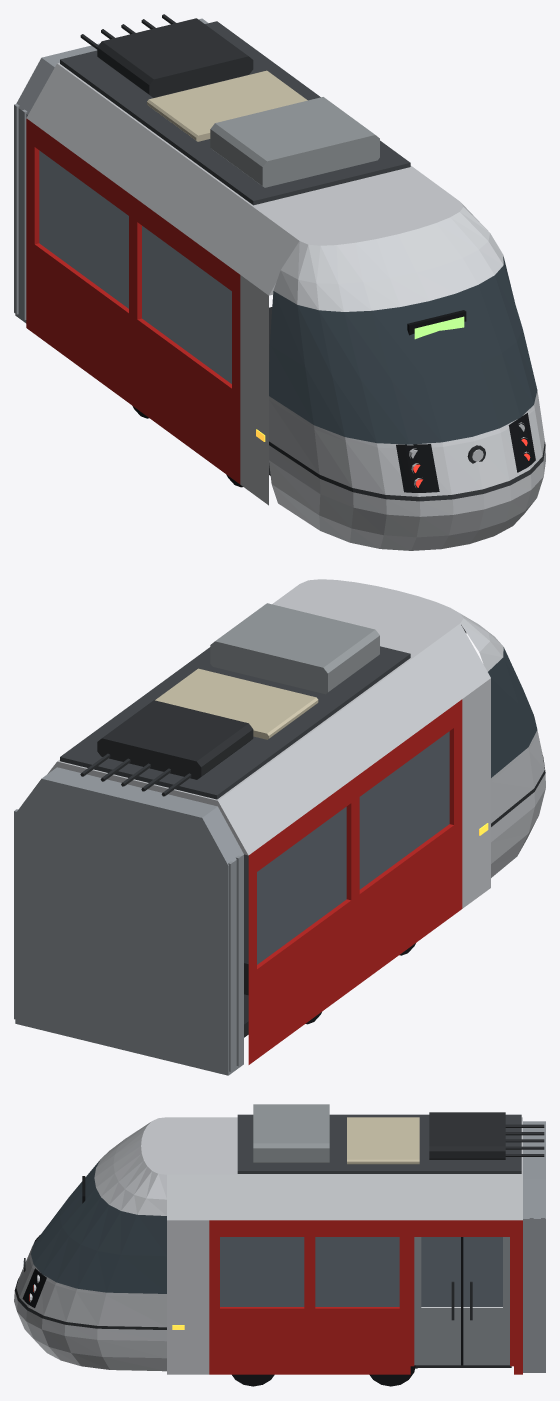
3 renders of one model, top to bottom at view 1: azimuth 30°, elevation 25°; view 2: azimuth 150°, elevation 25°; view 3: azimuth 270°, elevation 25°, orthographic. The views are drawn at different scales.
Parts seen in each view (by area): view 1: 14t-e; view 2: 14t-e; view 3: 14t-e.
Boxes of the visible parts, <box> form: 14t-e: <box>14,14,545,550</box>; 14t-e: <box>14,579,545,1075</box>; 14t-e: <box>14,1104,545,1386</box>.
Size of the model in its own units: 2.48 by 3.34 by 6.95.
